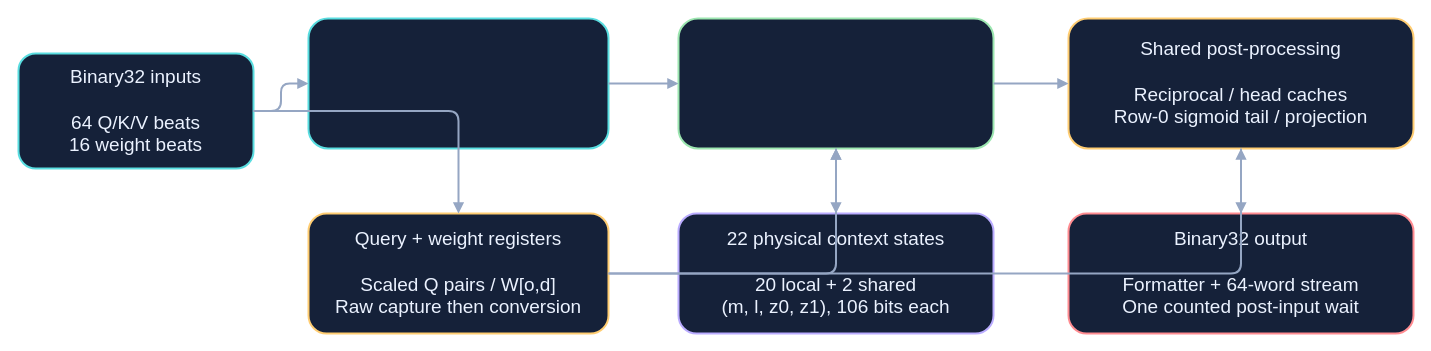
The diagram is 1431 pixels wide and 351 high, and some of its shapes have lost their labels. Each missing label, with the centre of its shape:
Five engines S1 score → S2 exp × V → S3 rescale + accumulate: (x=835, y=83)
Rotating K/V banks 4 components × 17 positions Two adjacent taps per head: (x=458, y=83)
